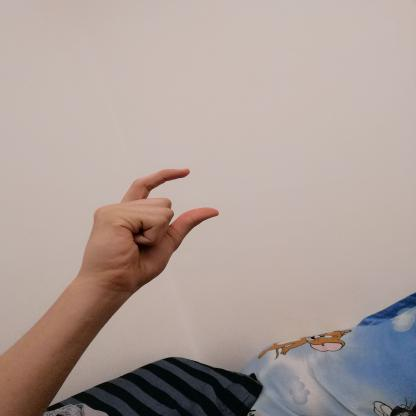DELL: (70, 160, 230, 296)
